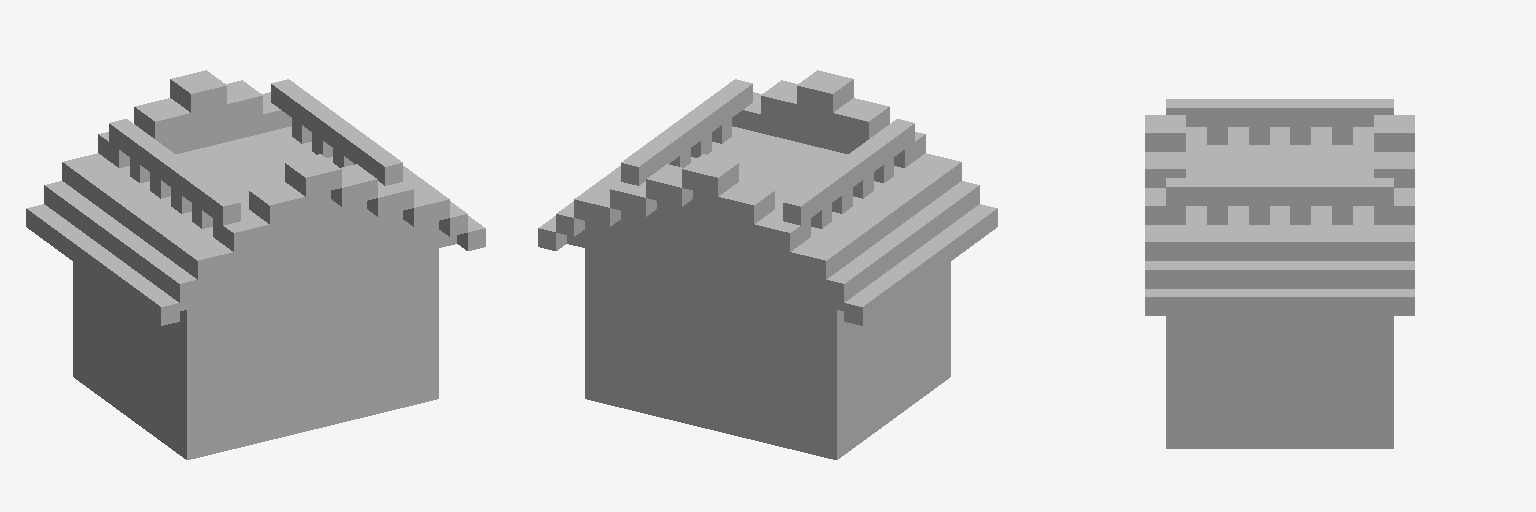
Rendered from barn.obj.
3 renders of one model, left to right at view 1: azimuth 30°, elevation 25°; view 2: azimuth 150°, elevation 25°; view 3: azimuth 270°, elevation 25°, orthographic.
Bounding box in the file's own units: 18 × 14 × 13.